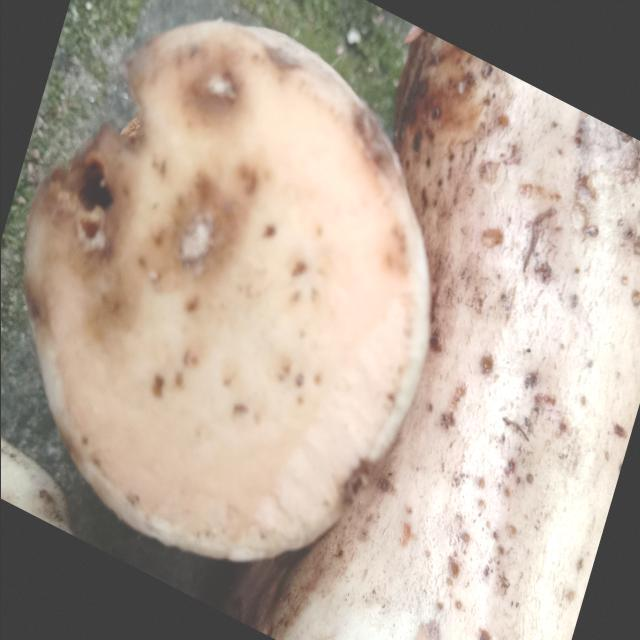Sick Sweet Potato_Tuber Rot: (24, 22, 429, 560)
